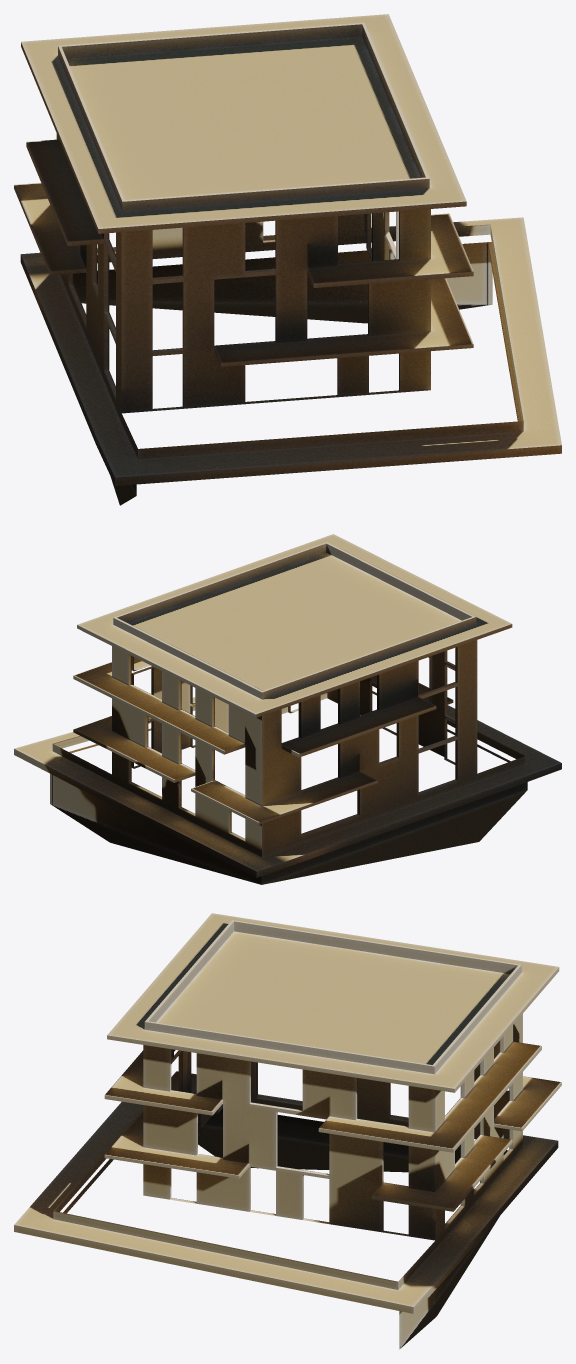
File: Building_01.fbx
3 views of the same model, one above another, from view 1: azimuth 30°, elevation 25°; view 2: azimuth 150°, elevation 25°; view 3: azimuth 270°, elevation 25° (orthographic). The views are drawn at different scales.
Parts seen in each view (by area): view 1: Building_01; view 2: Building_01; view 3: Building_01.
Boxes of the visible parts, box(x1,y1,x2,y2) form: Building_01: box(14, 14, 561, 505); Building_01: box(14, 534, 561, 884); Building_01: box(14, 913, 561, 1349).
Bounding box in the file's own units: 25.28 × 12.75 × 25.46.
Materials: 1 (1 with a texture image).
